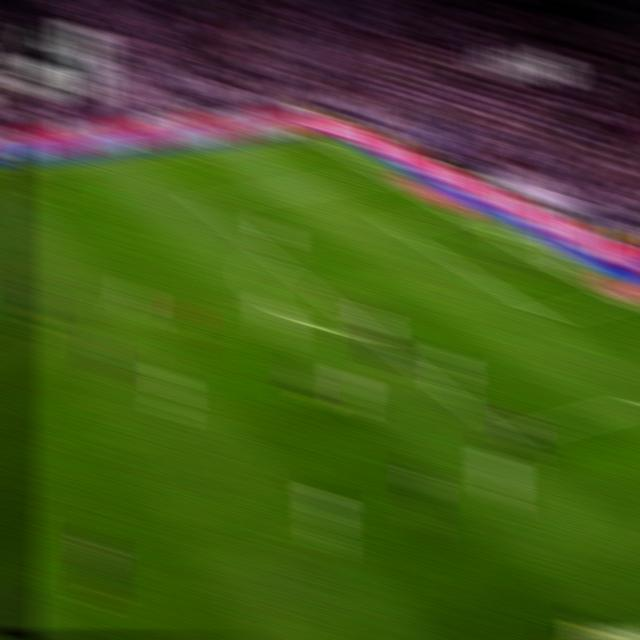bigarea_bottom_inner: (493, 422, 521, 450)
bigarea_top_inner: (190, 194, 214, 212)
bigarea_top_outter: (365, 166, 389, 182)
corner: (292, 128, 317, 141)
smallarea_top_inner: (382, 218, 405, 232)
top_arc_area_intersection: (258, 246, 284, 264)
